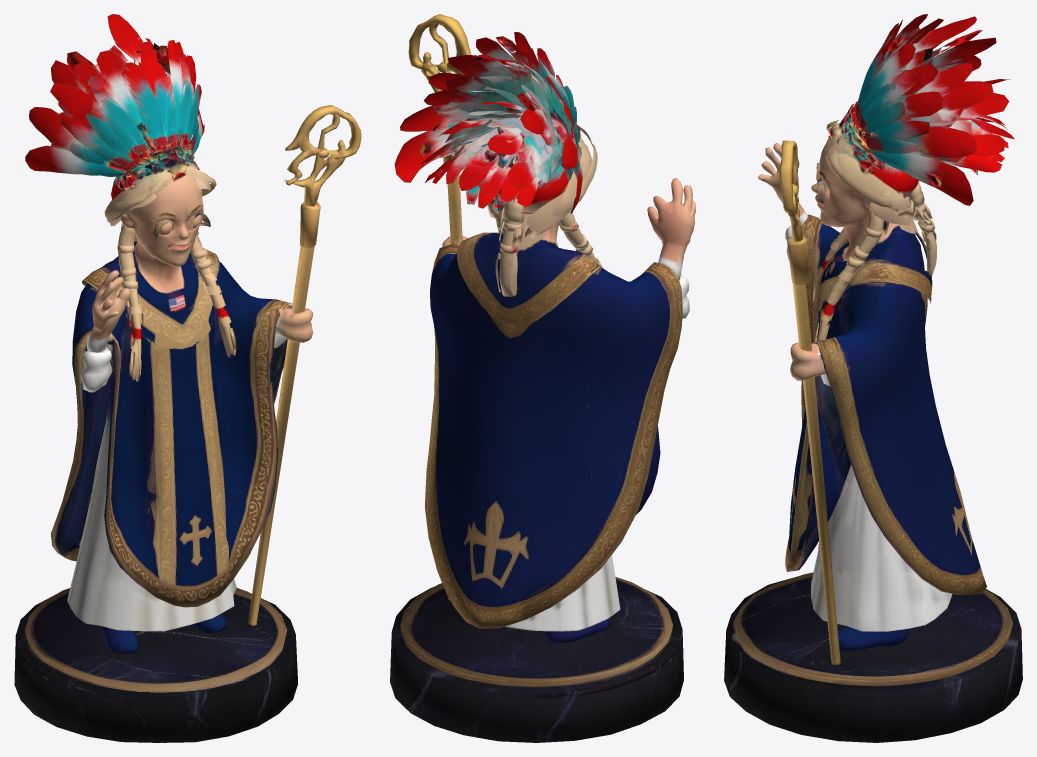
Rendered from left-bishop-ks.glb.
The picture shows the model from 3 angles, left to right: view 1: azimuth 30°, elevation 25°; view 2: azimuth 150°, elevation 25°; view 3: azimuth 270°, elevation 25°; orthographic projection. The views are drawn at different scales.
Bounding box in the file's own units: 0.4717 × 1 × 0.4082.
1 material, 1 textured.
